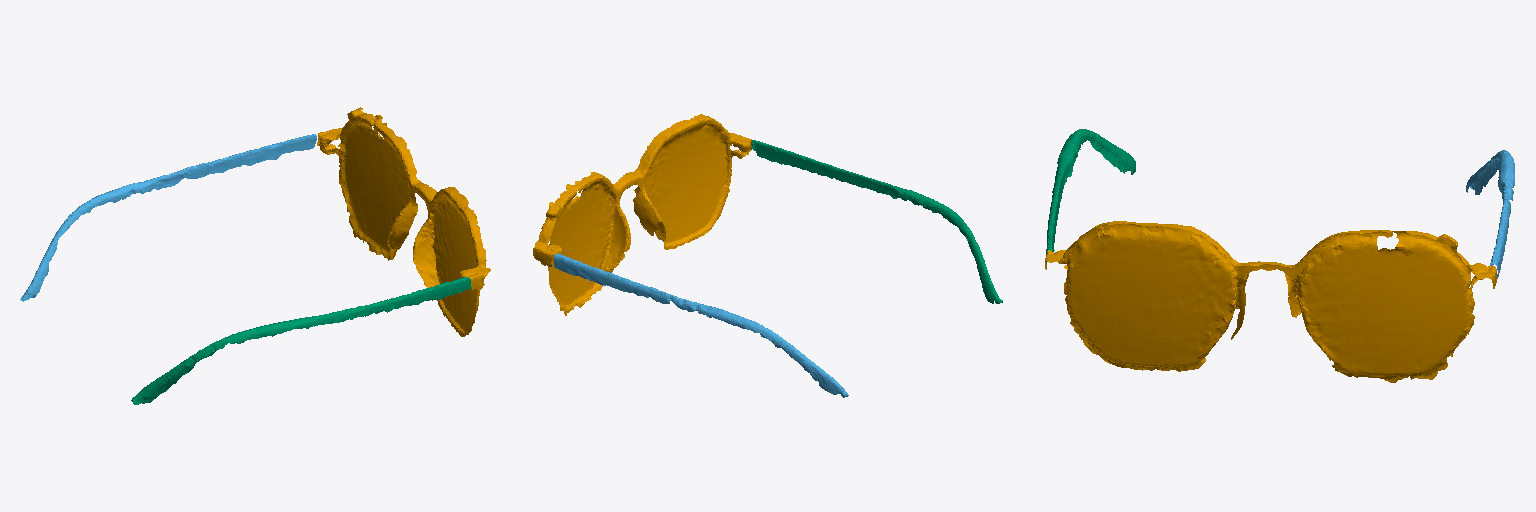
The robot description file, URDF, robot "eyeglasses3":
<?xml version="1.0" ?>
<robot name="eyeglasses3">
	<link name="base_link">
		<visual>
			<origin rpy="0 0 0" xyz="0.0 0.0 0.0"/>
			<geometry>
				<mesh filename="package://part_meshes/base_link.obj" scale="1 1 1"/>
			</geometry>
		</visual>
		<inertial>
			<origin rpy="0 0 0" xyz="0 0 0"/>
			<mass value="0.0"/>
			<inertia ixx="0.0" ixy="0.0" ixz="0.0" iyy="0.0" iyz="0.0" izz="0.0"/>
		</inertial>
	</link>
	<link name="link1">
		<visual>
			<origin rpy="0 0 0" xyz="0.003976 0.007971 -0.061399"/>
			<geometry>
				<mesh filename="package://part_meshes/link1.obj" scale="1 1 1"/>
			</geometry>
		</visual>
		<inertial>
			<origin rpy="0 0 0" xyz="0 0 0"/>
			<mass value="0.0"/>
			<inertia ixx="0.0" ixy="0.0" ixz="0.0" iyy="0.0" iyz="0.0" izz="0.0"/>
		</inertial>
	</link>
	<link name="link2">
		<visual>
			<origin rpy="0 0 0" xyz="0.005248 0.019277 0.06053"/>
			<geometry>
				<mesh filename="package://part_meshes/link2.obj" scale="1 1 1"/>
			</geometry>
		</visual>
		<inertial>
			<origin rpy="0 0 0" xyz="0 0 0"/>
			<mass value="0.0"/>
			<inertia ixx="0.0" ixy="0.0" ixz="0.0" iyy="0.0" iyz="0.0" izz="0.0"/>
		</inertial>
	</link>
	<joint name="joint_base_link-link1" type="revolute">
		<parent link="base_link"/>
		<child link="link1"/>
		<origin xyz="-0.003976 -0.007971 0.061399" rpy="0 0 0"/>
		<axis xyz="1.0 0.0 0.0"/>
		<limit effort="1.0" lower="-0.01" upper="1.5" velocity="1000"/>
	</joint>
	<joint name="joint_base_link-link2" type="revolute">
		<parent link="base_link"/>
		<child link="link2"/>
		<origin xyz="-0.005248 -0.019277 -0.06053" rpy="0 0 0"/>
		<axis xyz="1.0 0.0 0.0"/>
		<limit effort="1.0" lower="-1.5" upper="0.01" velocity="1000"/>
	</joint>
</robot>

--- Facts derived from the render (not from the file) ---
Views: 3 orthographic renders of the robot side by side, from view 1: azimuth 30°, elevation 25°; view 2: azimuth 150°, elevation 25°; view 3: azimuth 270°, elevation 25°.
Model eyeglasses3 with 3 links and 2 joints (2 revolute), rooted at base_link, posed all joints at 0.
Links seen in each view (by area): view 1: base_link, link2, link1; view 2: base_link, link1, link2; view 3: base_link, link2, link1.
Link boxes in pixels (bbox=[...]): base_link: bbox=[317, 107, 490, 336]; link2: bbox=[131, 277, 471, 404]; link1: bbox=[20, 134, 316, 301]; base_link: bbox=[533, 114, 751, 315]; link1: bbox=[554, 253, 848, 397]; link2: bbox=[751, 140, 1002, 303]; base_link: bbox=[1045, 221, 1496, 382]; link2: bbox=[1046, 129, 1135, 262]; link1: bbox=[1466, 150, 1514, 278].
Bounding box of the posed robot: 0.1412 × 0.1312 × 0.0491 m (x, y, z).
Meshes: 3 distinct files referenced, 3 mesh visuals loaded (3 OBJ).